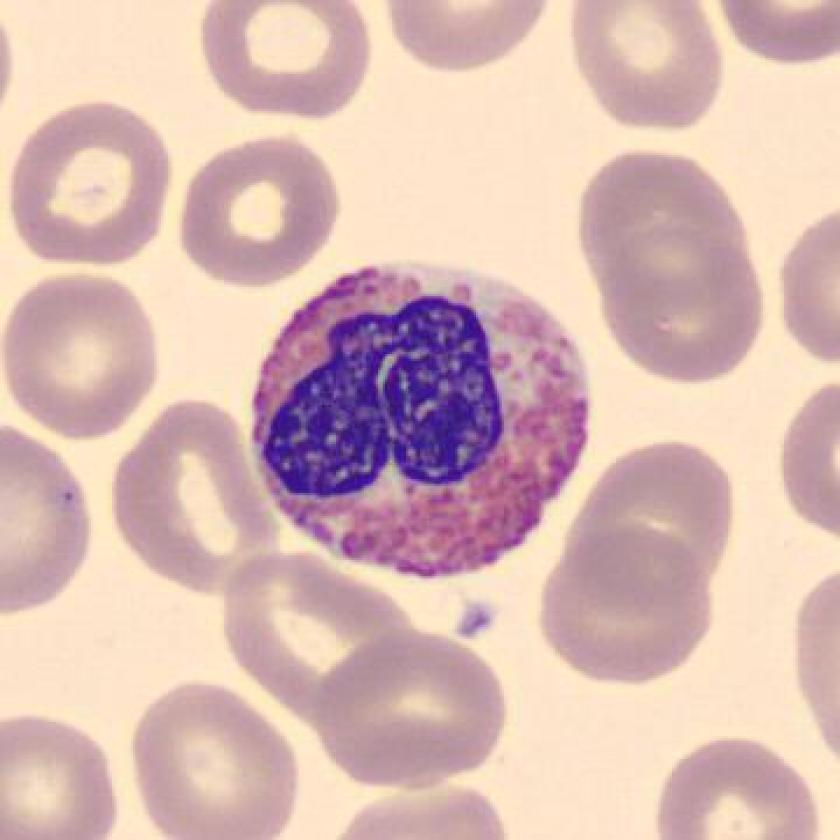eosinophil: (234, 247, 608, 594)
